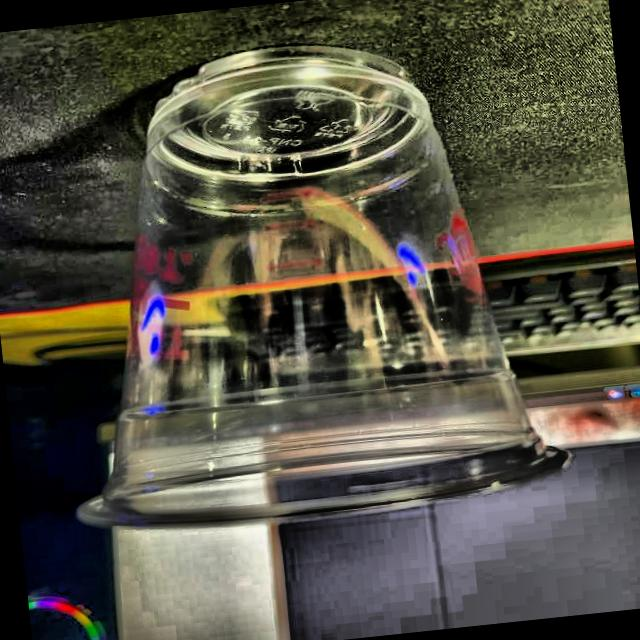plastic cup: (22, 18, 576, 548)
